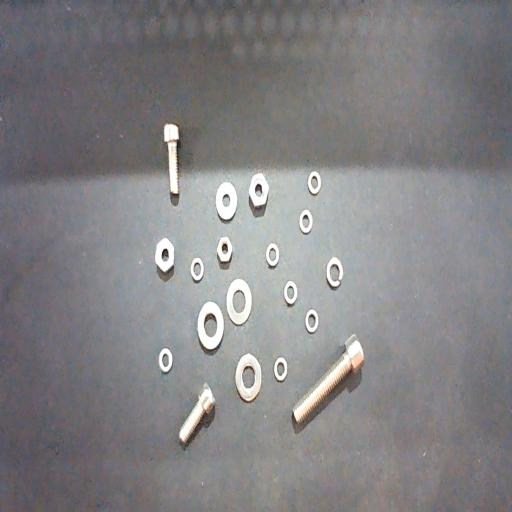nut: (248, 172, 270, 211), (155, 236, 175, 276), (216, 236, 232, 265)
screw: (292, 334, 364, 426), (178, 384, 215, 446), (164, 124, 181, 200)
washer: (197, 301, 224, 351), (226, 278, 252, 326), (236, 354, 261, 402), (216, 181, 237, 222), (326, 256, 343, 288), (158, 347, 173, 373), (284, 279, 298, 306), (265, 242, 279, 268), (274, 356, 288, 382), (190, 257, 204, 282), (308, 170, 322, 195), (305, 308, 319, 333), (299, 209, 312, 235)
